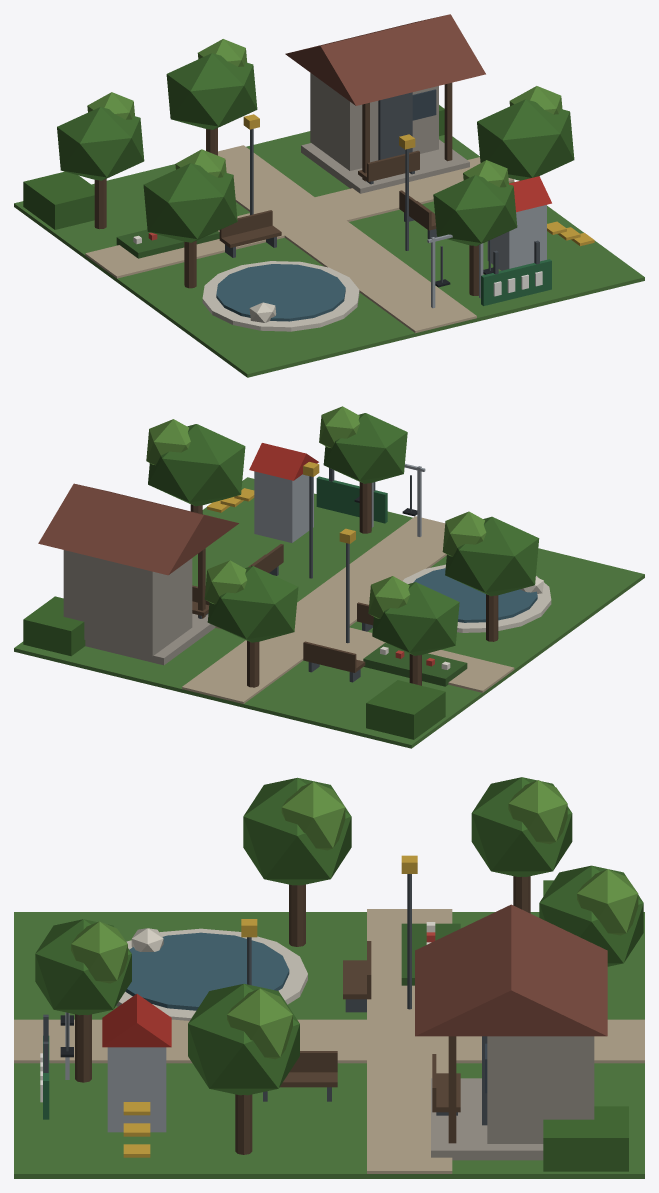
File: service_park.glb
The picture shows the model from 3 angles, top to bottom: view 1: azimuth 30°, elevation 25°; view 2: azimuth 150°, elevation 25°; view 3: azimuth 270°, elevation 25°; orthographic projection. The views are drawn at different scales.
Visible parts, largest first — view 1: service_park; view 2: service_park; view 3: service_park.
Boxes of the visible parts, x1,y1,x2,y2 form: service_park: (14, 14, 644, 377); service_park: (14, 406, 644, 748); service_park: (14, 777, 644, 1178).
Size of the model in its own units: 11.9 by 3.75 by 11.8.
Materials: 2 (1 with a texture image).
